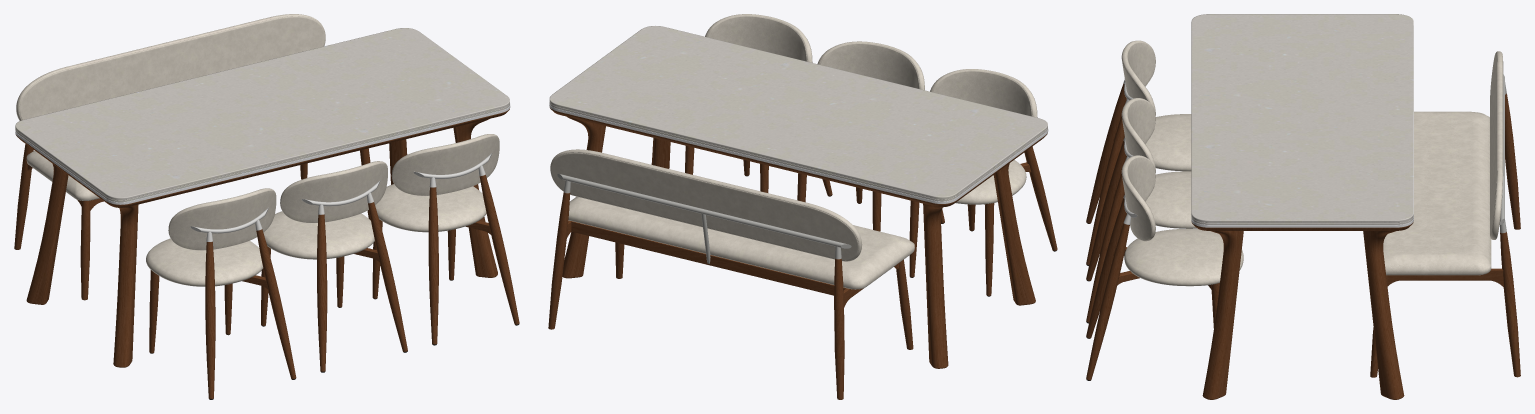
File: diningtable37229.glb
3 views of the same model, side by side, from view 1: azimuth 30°, elevation 25°; view 2: azimuth 150°, elevation 25°; view 3: azimuth 270°, elevation 25° (orthographic). The views are drawn at different scales.
Parts seen in each view (by area): view 1: diningtable37229; view 2: diningtable37229; view 3: diningtable37229.
Part boxes in pixels (bbox=[...]): diningtable37229: bbox=[14, 14, 519, 399]; diningtable37229: bbox=[548, 14, 1057, 399]; diningtable37229: bbox=[1086, 14, 1520, 399].
Size of the model in its own units: 1.8 by 0.77 by 1.6.
3 materials, 3 textured.
